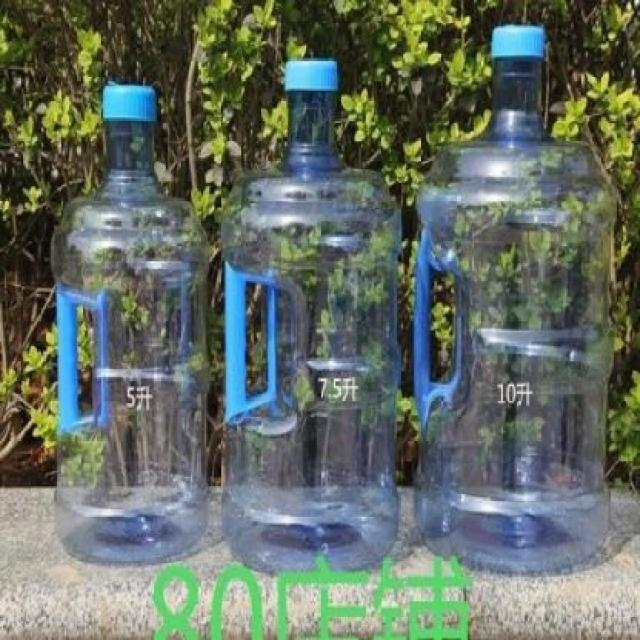coolerbottle: (409, 17, 622, 578), (216, 54, 406, 579), (49, 82, 212, 576)
